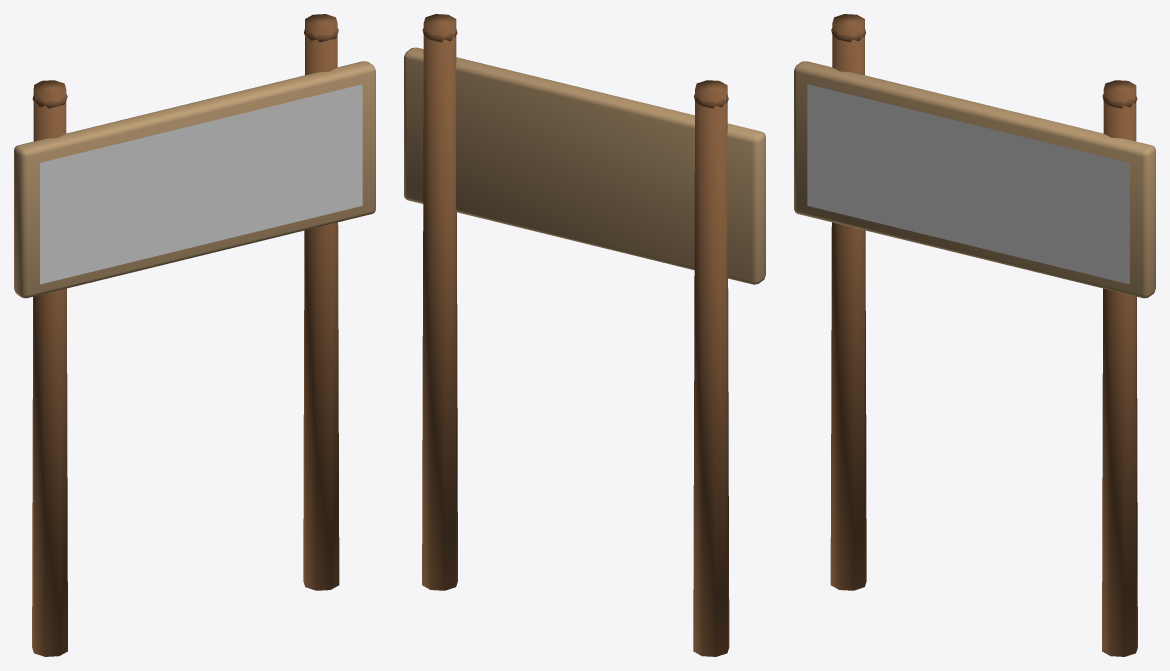
File: sign.glb
3 views of the same model, side by side, from view 1: azimuth 30°, elevation 25°; view 2: azimuth 150°, elevation 25°; view 3: azimuth 330°, elevation 25° (orthographic).
Parts seen in each view (by area): view 1: sign, sign_label; view 2: sign; view 3: sign, sign_label.
Part boxes in pixels (box(x1,y1,x2,y2)): sign: box(14, 14, 375, 656); sign_label: box(40, 84, 362, 284); sign: box(404, 14, 765, 656); sign: box(794, 14, 1155, 656); sign_label: box(807, 84, 1129, 284).
Size of the model in its own units: 1.1 by 1.66 by 0.134.
